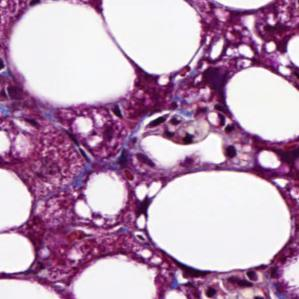inflammation: (142, 109, 199, 144), (205, 267, 264, 299), (206, 109, 241, 162)
